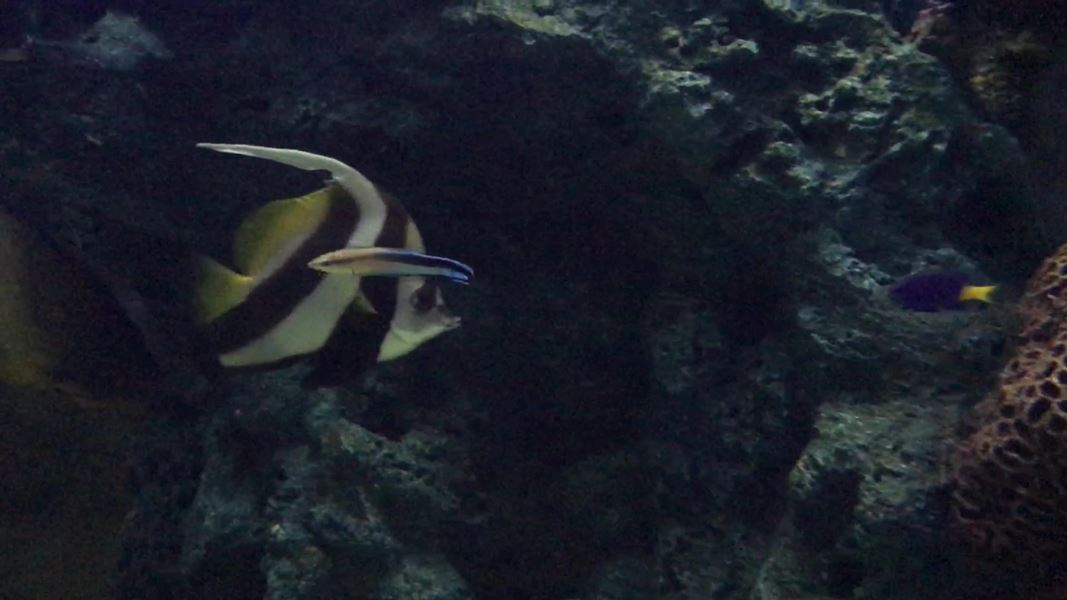Bluesteak cleaner wrasse: (300, 240, 474, 298)
